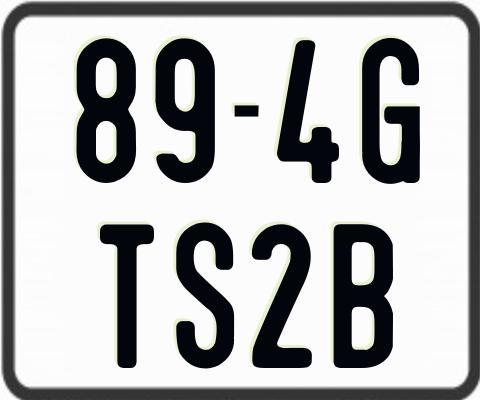2: (251, 222, 313, 368)
4: (276, 40, 343, 187)
8: (76, 38, 136, 188)
9: (155, 35, 217, 186)
B: (334, 221, 396, 369)
G: (359, 37, 421, 183)
S: (174, 221, 234, 370)
T: (100, 222, 156, 367)
